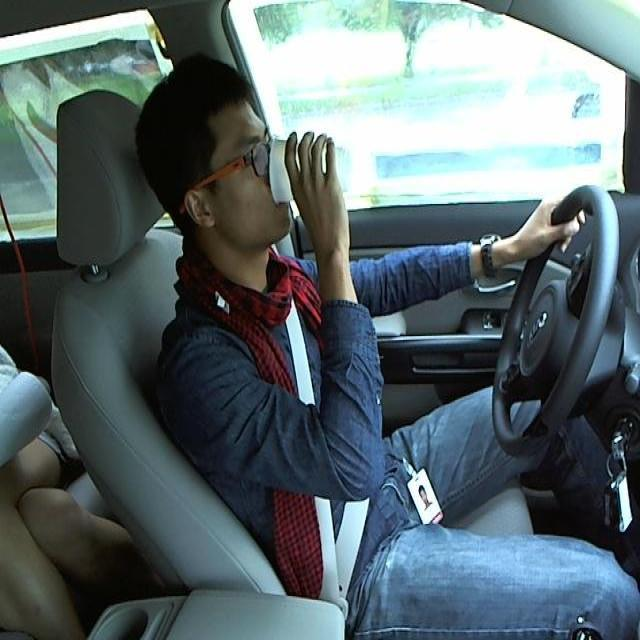Seatbelt: (266, 136, 352, 202)
